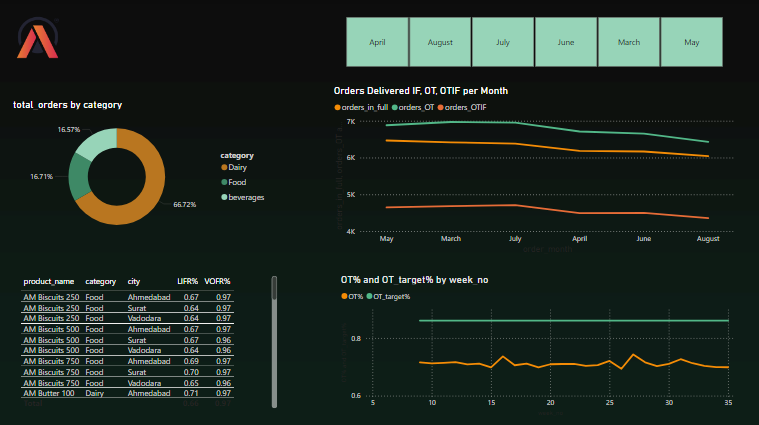

The page's visual inventory and layout, read from the dashboard file:
{"tool":"powerbi","page":{"name":"monthly_trend","canvas":[1280,720],"ordinal":1},"visuals":[{"type":"slicer","fields":{"Values":["fact_order_lines.order_month"]},"box":[557.7,23.5,682,97.4],"z":0},{"type":"lineChart","title":"Orders Delivered IF, OT, OTIF per Month","fields":{"Y":["fact_order_lines.orders_delivered_in_full","fact_order_lines.orders_delivered_OT","fact_order_lines.orders_delivered_OTIF"],"Category":["fact_order_lines.order_month"]},"box":[557.7,142.8,682,290.6],"z":1000},{"type":"lineChart","fields":{"Y":["fact_order_lines.OT%","fact_order_lines.OT_target%"],"Category":["fact_order_lines.order_month","fact_order_lines.week_no"]},"box":[569.4,460.3,670.2,245.2],"z":2000},{"type":"tableEx","fields":{"Values":["dim_products.product_name","dim_products.category","dim_customers.city","fact_order_lines.LIFR%","fact_order_lines.VOFR%"]},"box":[30.2,460.3,441.8,231.8],"z":3000},{"type":"donutChart","fields":{"Category":["dim_products.category"],"Y":["fact_order_lines.total_orders"]},"box":[18.5,166.3,441.8,245.2],"z":4000},{"type":"image","box":[18.5,23.5,94.1,80.6],"z":5000}]}

Visuals, with their boxes in screenshot pixels (x1, y1, x2, y2), scaled from the page's 1280x720 canvas onto the 759x425 screenshot:
slicer - fact_order_lines.order_month: bbox=(331, 14, 735, 71)
"Orders Delivered IF, OT, OTIF per Month" lineChart: bbox=(331, 84, 735, 256)
lineChart - fact_order_lines.OT% x fact_order_lines.OT_target%: bbox=(338, 272, 735, 416)
tableEx - dim_products.product_name x dim_products.category: bbox=(18, 272, 280, 409)
donutChart - dim_products.category x fact_order_lines.total_orders: bbox=(11, 98, 273, 243)
image: bbox=(11, 14, 67, 61)
